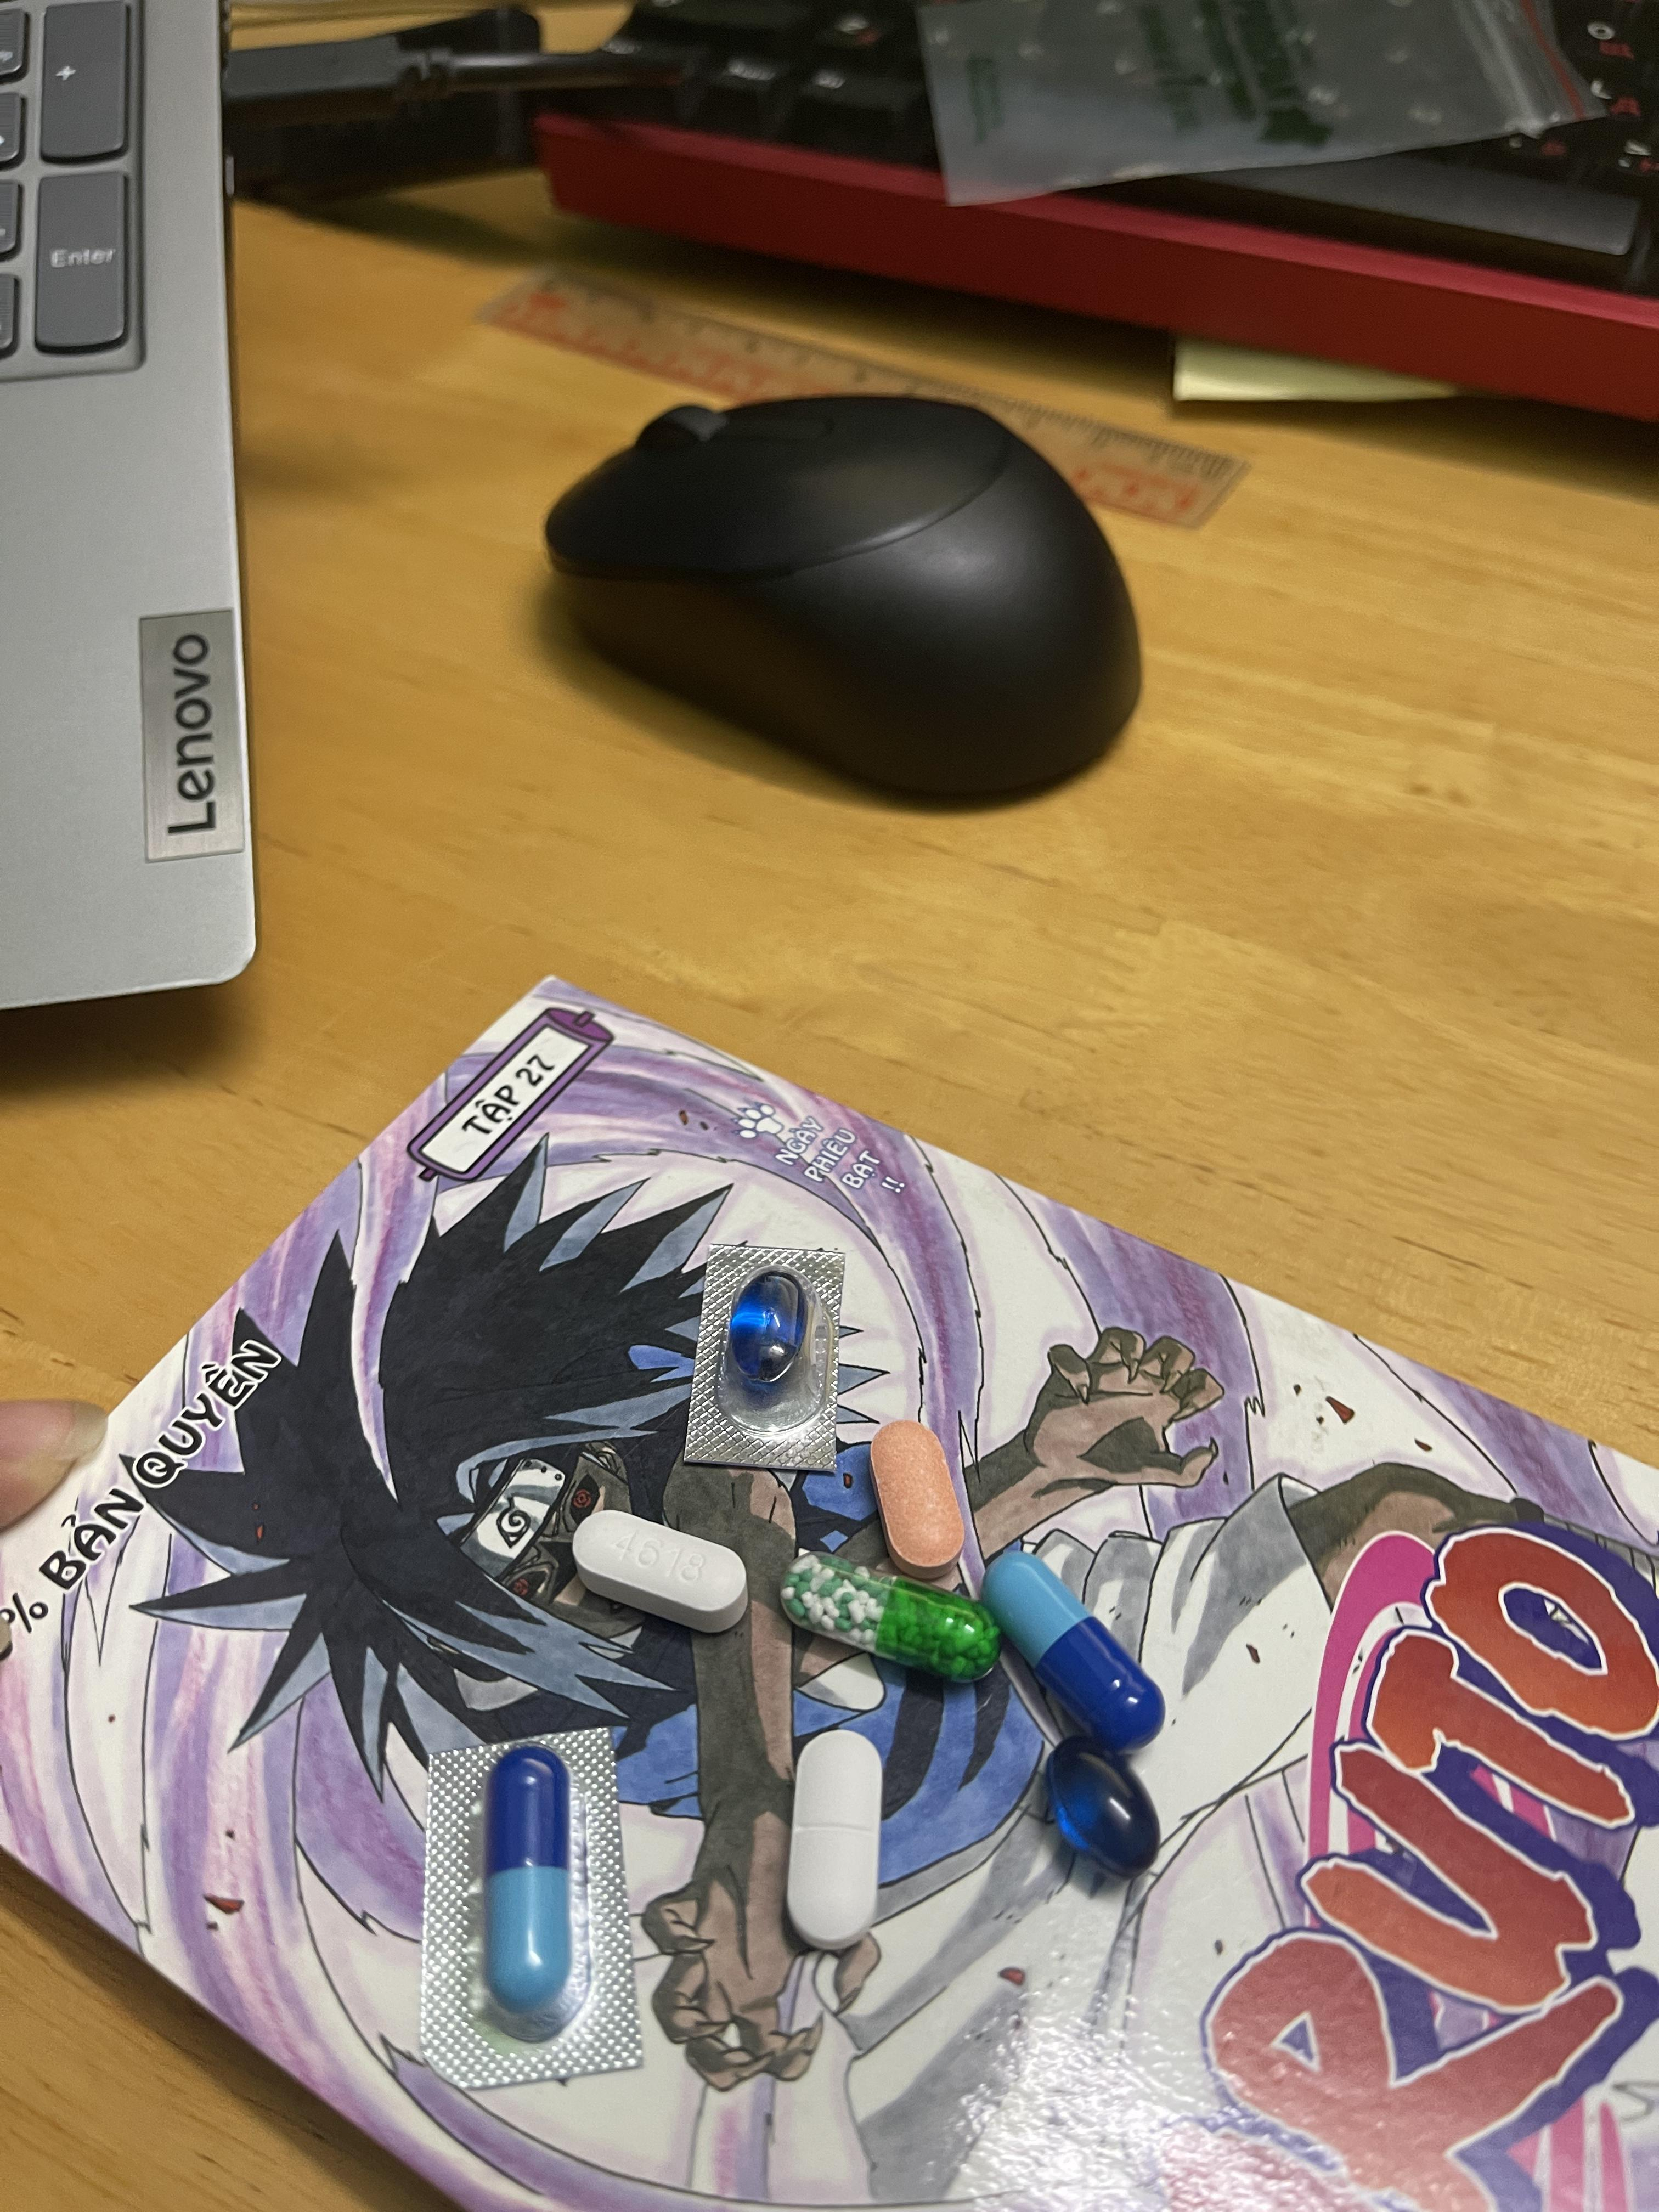Lincomyxin_500mg: (1042, 1738, 1162, 1878), (727, 1271, 807, 1385)
Loratadine_10mg: (871, 1423, 964, 1569)
Paracetamol_350mg: (784, 1730, 884, 1952)
Paracetamol_500mg: (573, 1512, 746, 1622)
Paracetamol_650mg: (791, 1555, 993, 1679)
pill: (985, 1541, 1162, 1749), (483, 1756, 577, 2029)
